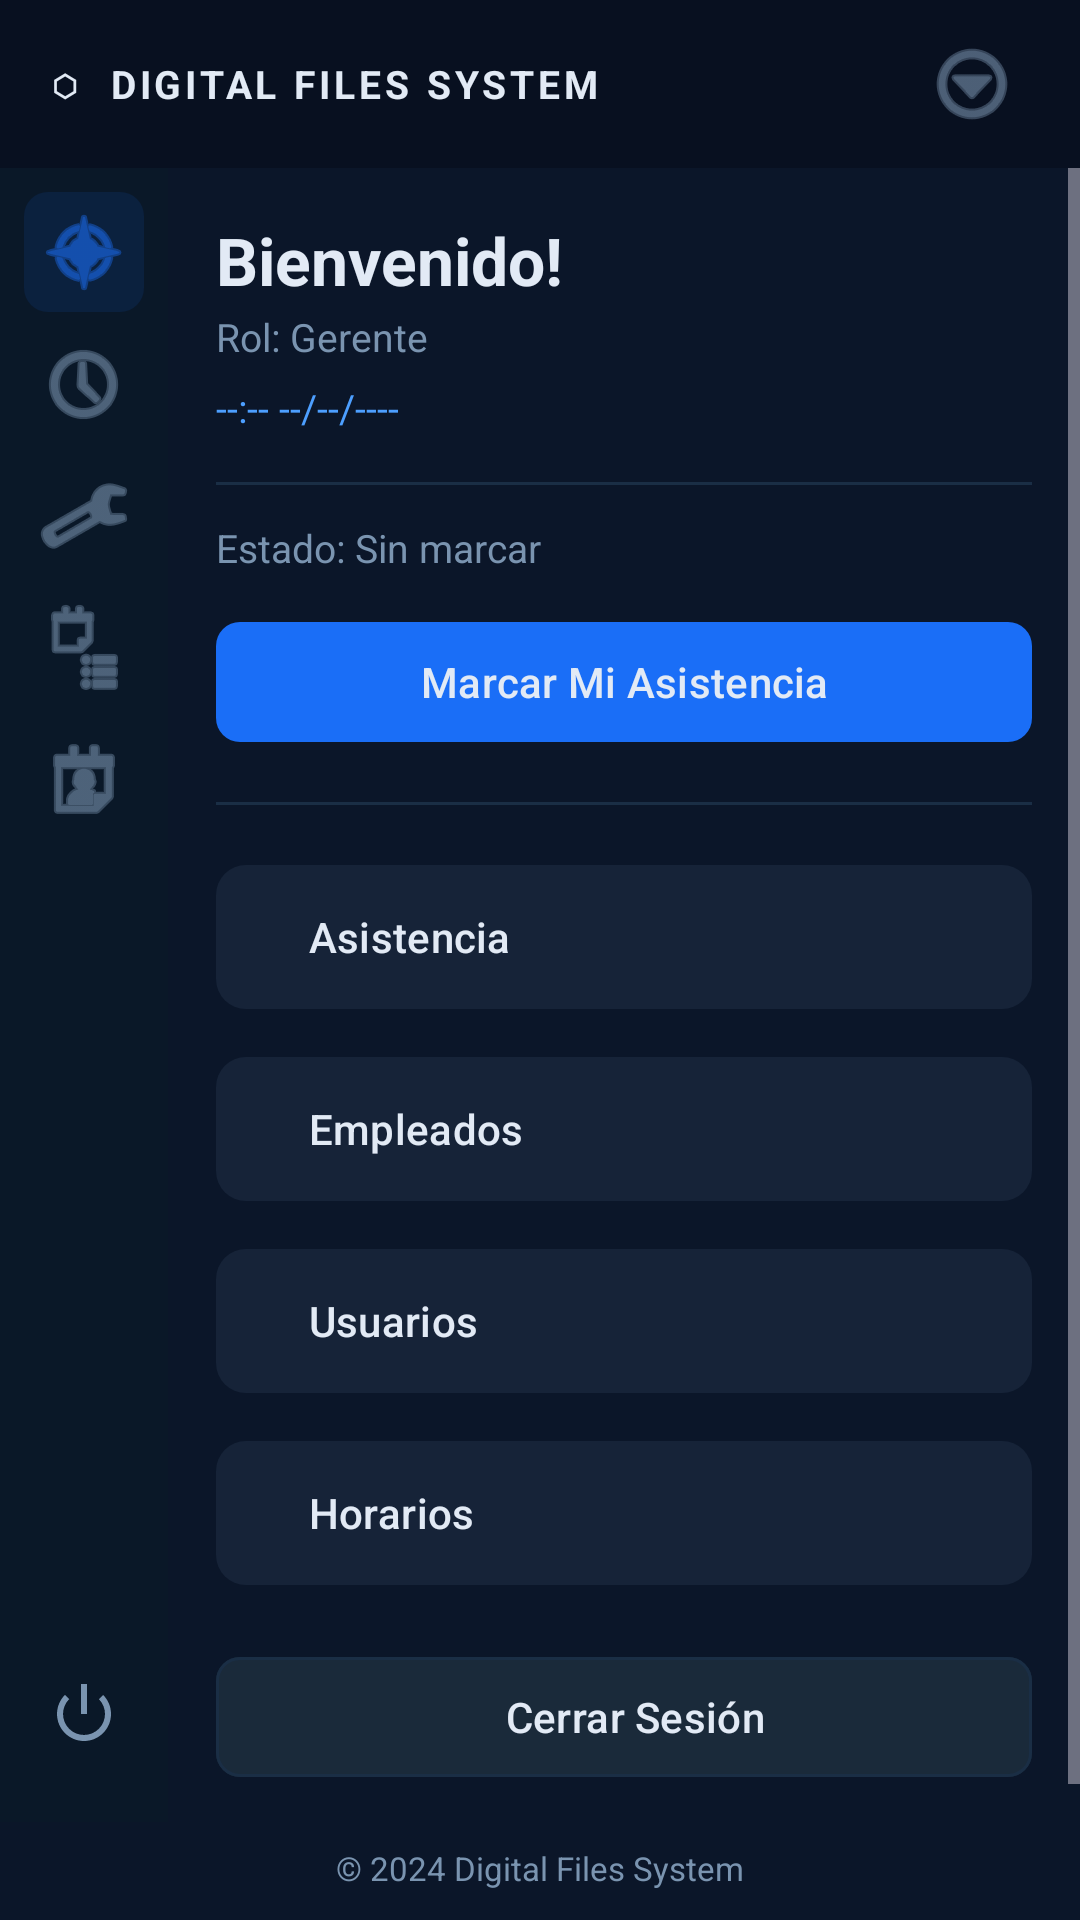

Icon bounding boxes for this 1080×1920 phone screenshot, format box=[x1, y1, x2, y2]:
agenda: box=[51, 605, 118, 690]
calendar: box=[53, 744, 115, 814]
compass: box=[45, 214, 122, 291]
lock power off: box=[57, 1684, 111, 1741]
manage: box=[41, 483, 127, 549]
more: box=[937, 49, 1007, 119]
recent history: box=[49, 350, 118, 419]
